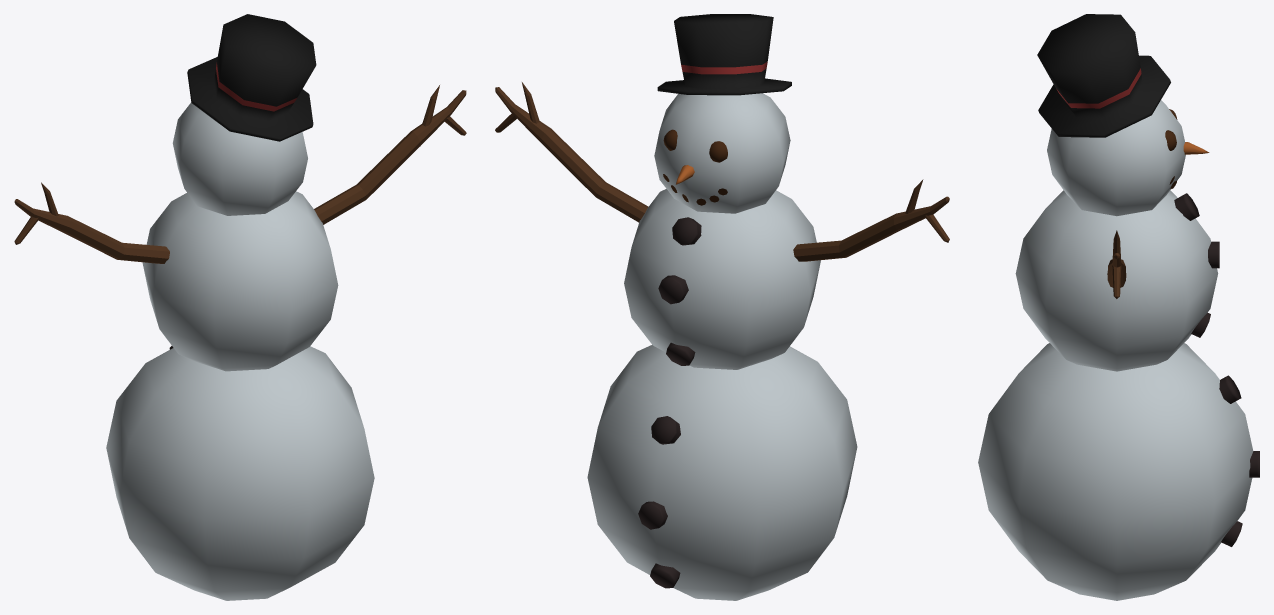
Rendered from snowman.fbx.
3 views of the same model, side by side, from view 1: azimuth 30°, elevation 25°; view 2: azimuth 150°, elevation 25°; view 3: azimuth 270°, elevation 25° (orthographic).
Visible parts, largest first — view 1: Boneco_de_Neve; view 2: Boneco_de_Neve; view 3: Boneco_de_Neve.
Part boxes in pixels (x1,y1,x2,y2): Boneco_de_Neve: [14, 14, 466, 600]; Boneco_de_Neve: [495, 14, 949, 600]; Boneco_de_Neve: [978, 14, 1259, 600].
Size of the model in its own units: 249 by 298 by 134.
